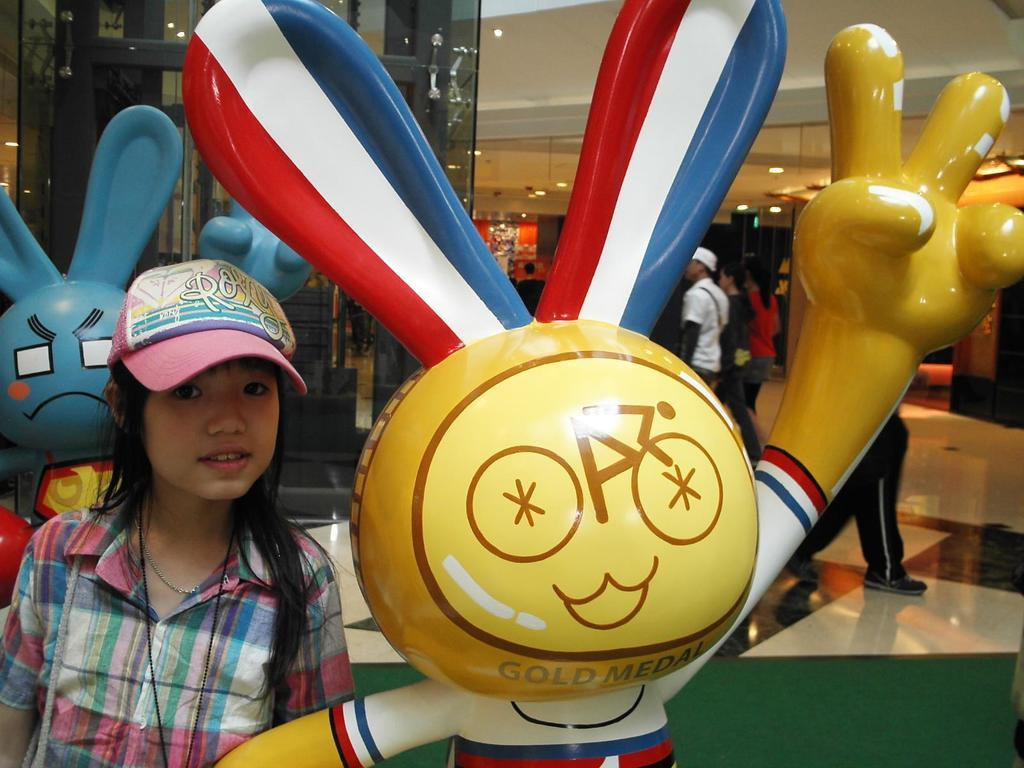Hat: (110, 260, 308, 396), (690, 246, 718, 274)
